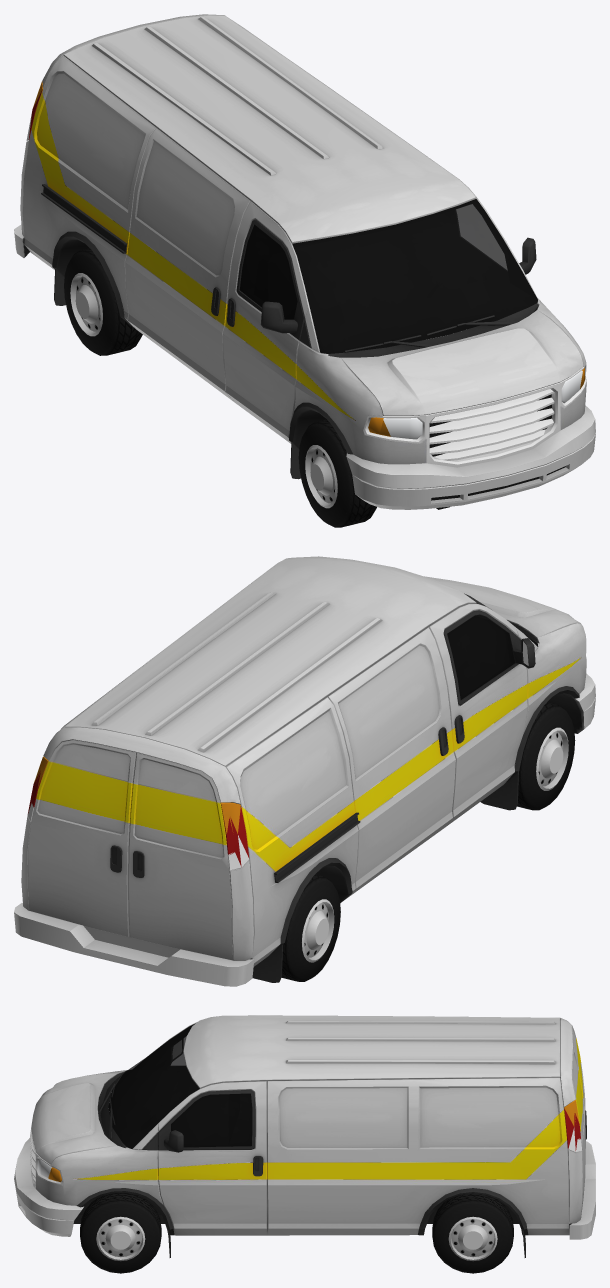
The model's file is car_service_van.glb.
The picture shows the model from 3 angles, top to bottom: view 1: azimuth 30°, elevation 25°; view 2: azimuth 150°, elevation 25°; view 3: azimuth 270°, elevation 25°; orthographic projection. The views are drawn at different scales.
Visible parts, largest first — view 1: Body, Glass, WheelFR, WheelRR, Headlights; view 2: Body, WheelFR, WheelRR, Glass, Brakelights; view 3: Body, Glass, WheelFL, WheelRL, Brakelights.
Part boxes in pixels (left/top/right/bottom): Body: left=14, top=14, right=595, bottom=509; Glass: left=239, top=199, right=537, bottom=353; WheelFR: left=298, top=419, right=376, bottom=527; WheelRR: left=64, top=248, right=142, bottom=355; Headlights: left=383, top=370, right=582, bottom=439; Body: left=14, top=556, right=595, bottom=986; WheelFR: left=517, top=702, right=575, bottom=810; WheelRR: left=281, top=874, right=340, bottom=981; Glass: left=447, top=593, right=538, bottom=699; Brakelights: left=28, top=771, right=249, bottom=866; Body: left=14, top=1015, right=595, bottom=1257; Glass: left=108, top=1023, right=252, bottom=1148; WheelFL: left=80, top=1192, right=161, bottom=1273; WheelRL: left=432, top=1193, right=513, bottom=1273; Brakelights: left=564, top=1108, right=580, bottom=1150.
Size of the model in its own units: 2.17 by 1.96 by 5.3.
6 materials, 2 textured.
